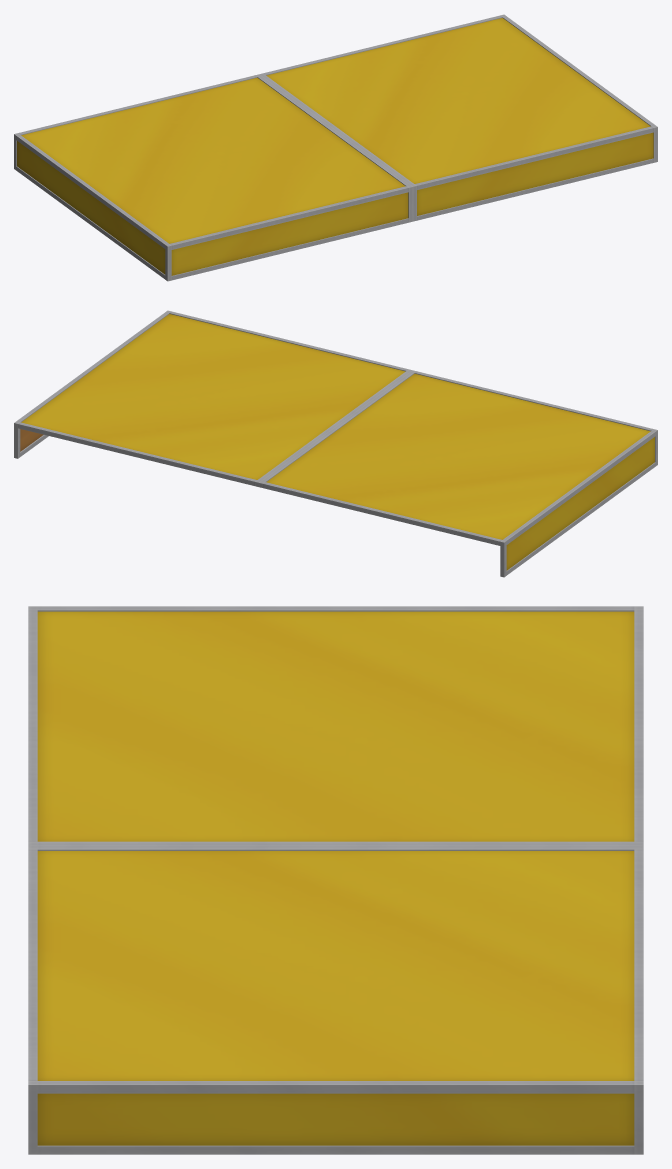
File: jsf_2P_s01_c03_t01_DX.fbx
The picture shows the model from 3 angles, top to bottom: view 1: azimuth 30°, elevation 25°; view 2: azimuth 150°, elevation 25°; view 3: azimuth 270°, elevation 25°; orthographic projection. The views are drawn at different scales.
Parts seen in each view (by area): view 1: jsf_2P_s01_c03_t01_DX; view 2: jsf_2P_s01_c03_t01_DX; view 3: jsf_2P_s01_c03_t01_DX.
Boxes of the visible parts, x1,y1,x2,y2 form: jsf_2P_s01_c03_t01_DX: [14, 14, 657, 281]; jsf_2P_s01_c03_t01_DX: [14, 310, 657, 577]; jsf_2P_s01_c03_t01_DX: [28, 606, 643, 1154].
Size of the model in its own units: 184 by 12.51 by 100.
